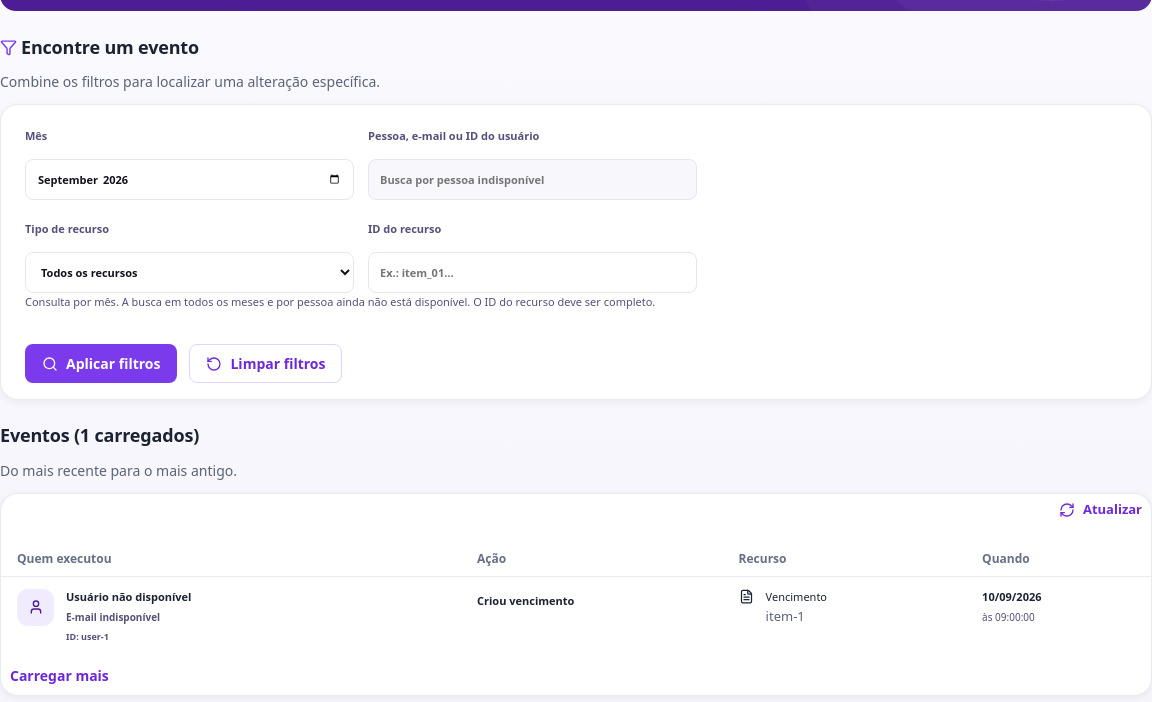
Test: ActivityLog (D-149) › a fetchNextPage() failure keeps every already-loaded row visible and shows an inline retry, never blanking the table
(page scrolled)
Click the button "Carregar mais" at (59, 675), box 1,656 -> 118,695
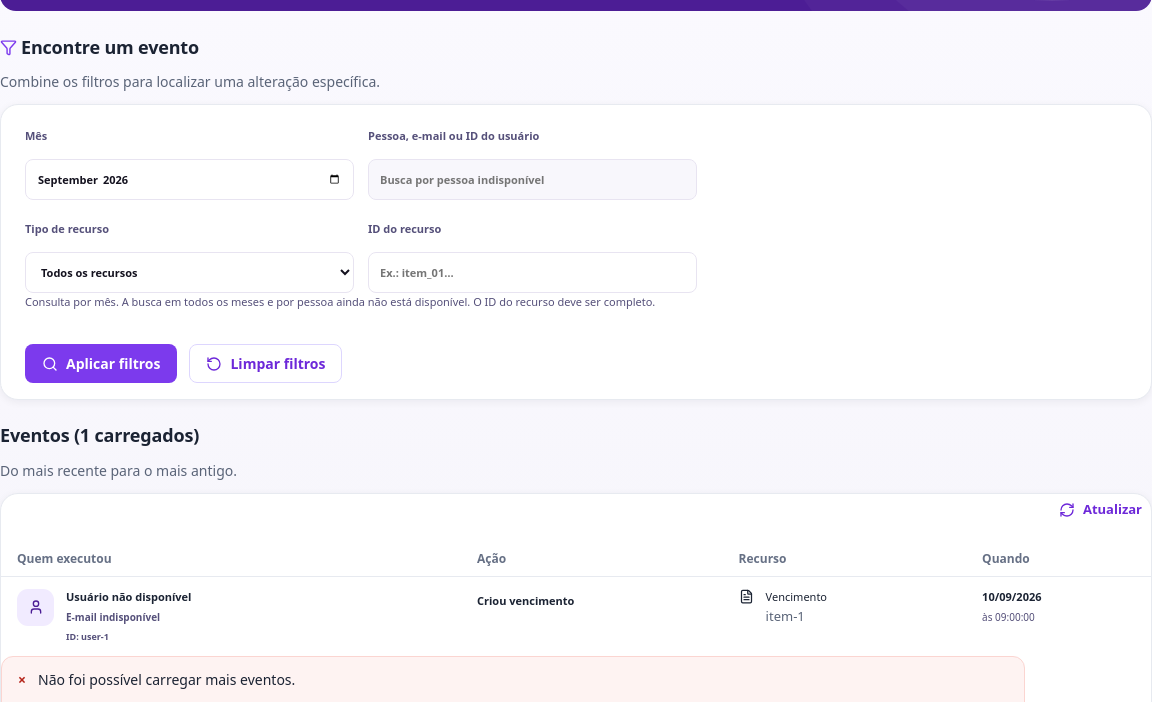
expect the text "Criou vencimento" is shown: met, box 477,593 -> 574,608
expect the text "Não foi possível carregar mais eventos." is shown: met, box 38,670 -> 295,689
